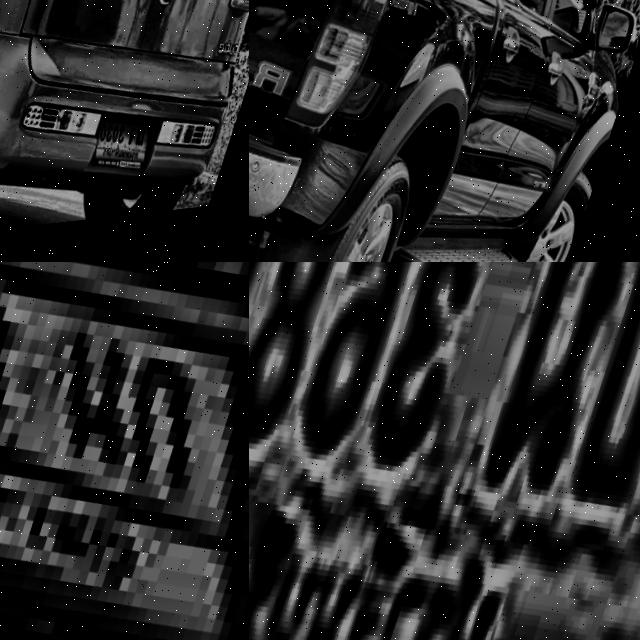license-plate: (249, 262, 640, 640), (0, 262, 249, 640), (88, 98, 181, 207)
